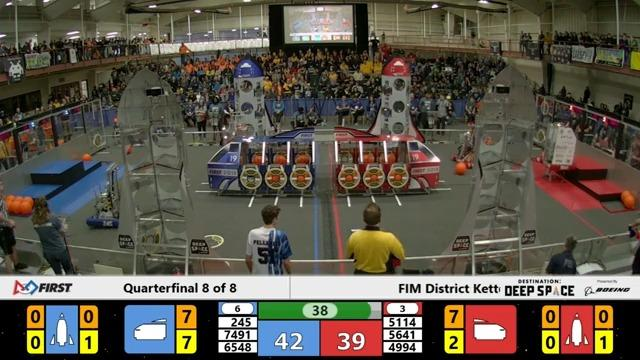robot: (88, 161, 130, 232), (449, 118, 492, 174), (538, 118, 576, 175), (218, 109, 255, 149)
